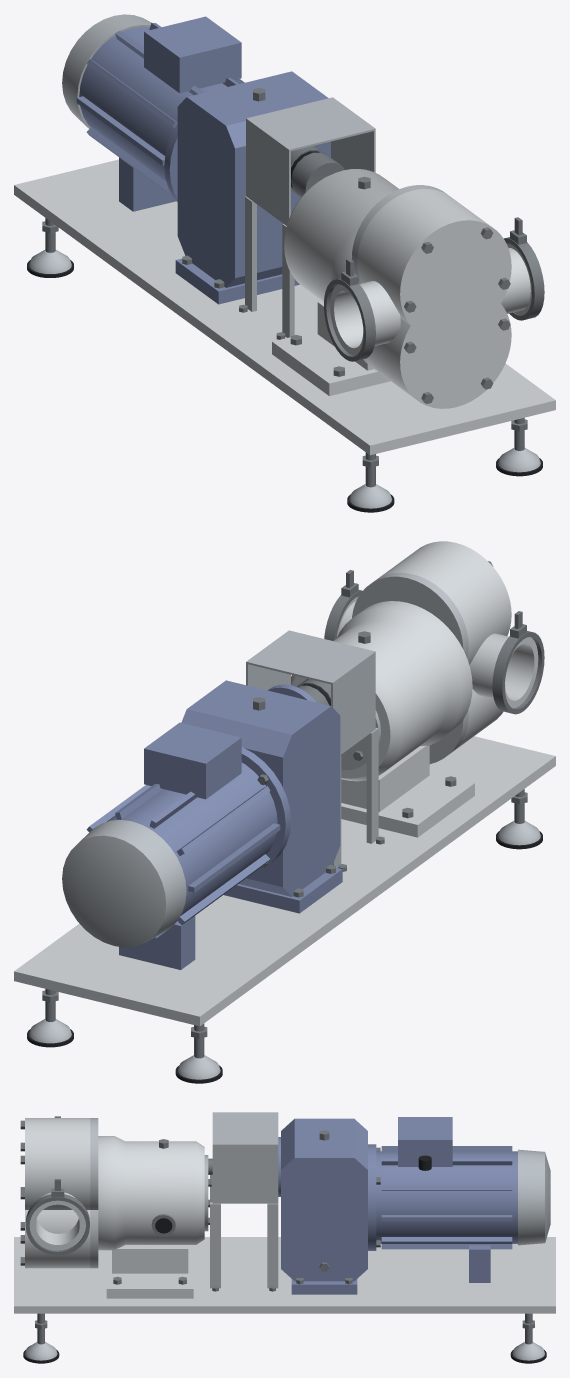
File: kreiskolbenpumpe.glb
3 views of the same model, one above another, from view 1: azimuth 30°, elevation 25°; view 2: azimuth 150°, elevation 25°; view 3: azimuth 270°, elevation 25° (orthographic). The views are drawn at different scales.
Visible parts, largest first — view 1: grundplatte, frontdeckel, getriebe, kupplungsschutz, lagertraeger, motor, rotorgehaeuse, klemmenkasten, pumpenfuss, lueferhaube, druckstutzen_rohr, druckstutzen_klemme_band (+16 smaller); view 2: grundplatte, getriebe, lagertraeger, lueferhaube, motor, kupplungsschutz, rotorgehaeuse, klemmenkasten, rueckwand, pumpenfuss, fussteg, druckstutzen_rohr (+15 smaller); view 3: grundplatte, getriebe, lagertraeger, motor, rotorgehaeuse, kupplungsschutz, lueferhaube, klemmenkasten, pumpenfuss, fussteg, rueckwand, frontdeckel (+17 smaller).
Part boxes in pixels (box(x1,y1,x2,y2)): grundplatte: box(14, 159, 555, 455); frontdeckel: box(394, 216, 511, 408); getriebe: box(177, 71, 330, 287); kupplungsschutz: box(246, 97, 375, 225); lagertraeger: box(284, 169, 398, 301); motor: box(79, 27, 226, 181); rotorgehaeuse: box(357, 189, 484, 393); klemmenkasten: box(144, 16, 241, 93); pumpenfuss: box(272, 330, 390, 395); lueferhaube: box(62, 14, 151, 128); druckstutzen_rohr: box(339, 281, 400, 346); druckstutzen_klemme_band: box(324, 278, 375, 361); grundplatte: box(14, 736, 555, 1026); getriebe: box(181, 680, 340, 896); lagertraeger: box(291, 601, 472, 781); lueferhaube: box(62, 820, 186, 947); motor: box(106, 762, 277, 915); kupplungsschutz: box(246, 630, 375, 754); rotorgehaeuse: box(378, 545, 505, 750); klemmenkasten: box(144, 722, 241, 799); rueckwand: box(352, 572, 468, 763); pumpenfuss: box(341, 772, 474, 837); fussteg: box(341, 745, 429, 811); druckstutzen_rohr: box(469, 633, 529, 699); grundplatte: box(14, 1237, 555, 1313); getriebe: box(281, 1118, 367, 1281); lagertraeger: box(98, 1136, 204, 1250); motor: box(376, 1151, 517, 1243); rotorgehaeuse: box(33, 1118, 90, 1268); kupplungsschutz: box(212, 1112, 278, 1203); lueferhaube: box(518, 1149, 550, 1245); klemmenkasten: box(398, 1117, 452, 1166); pumpenfuss: box(106, 1245, 193, 1298); fussteg: box(112, 1245, 188, 1273); rueckwand: box(90, 1118, 98, 1268); frontdeckel: box(25, 1118, 33, 1268).
Bounding box in the file's own units: 0.306 × 0.417 × 0.995.
